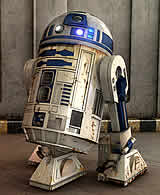r2d2: (23, 11, 148, 191)
